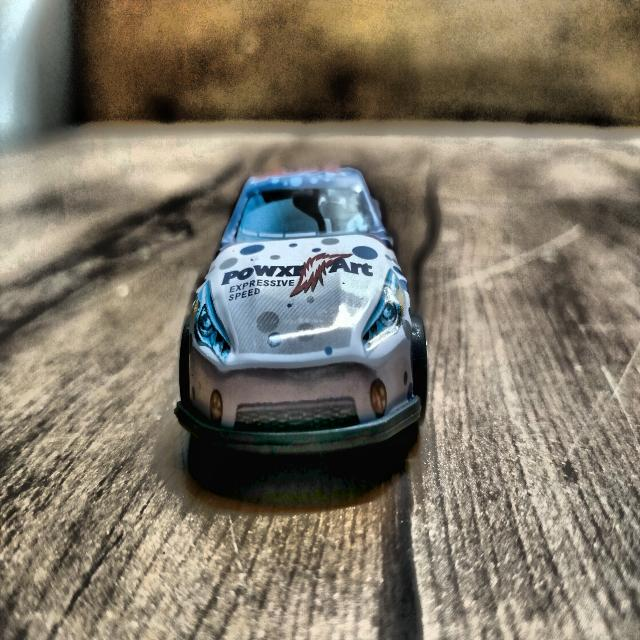Car: (176, 169, 427, 454)
